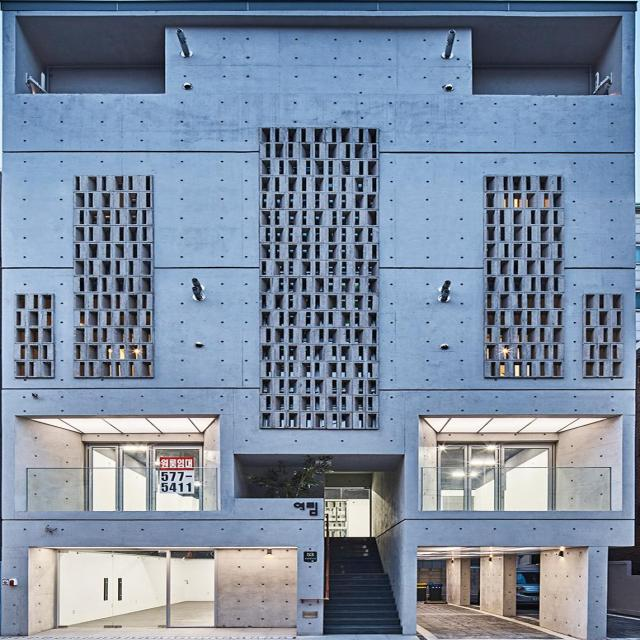Railing: (24, 468, 220, 512), (422, 467, 612, 512)
door: (56, 550, 172, 629), (322, 487, 376, 537)
wall: (0, 0, 637, 639)
windows: (168, 548, 220, 628), (436, 443, 556, 466), (84, 446, 202, 467)
